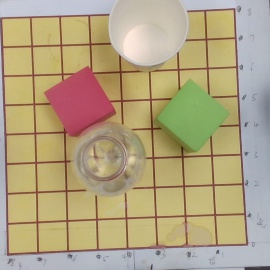bottle: (73, 123, 147, 195)
cup: (108, 1, 189, 69)
